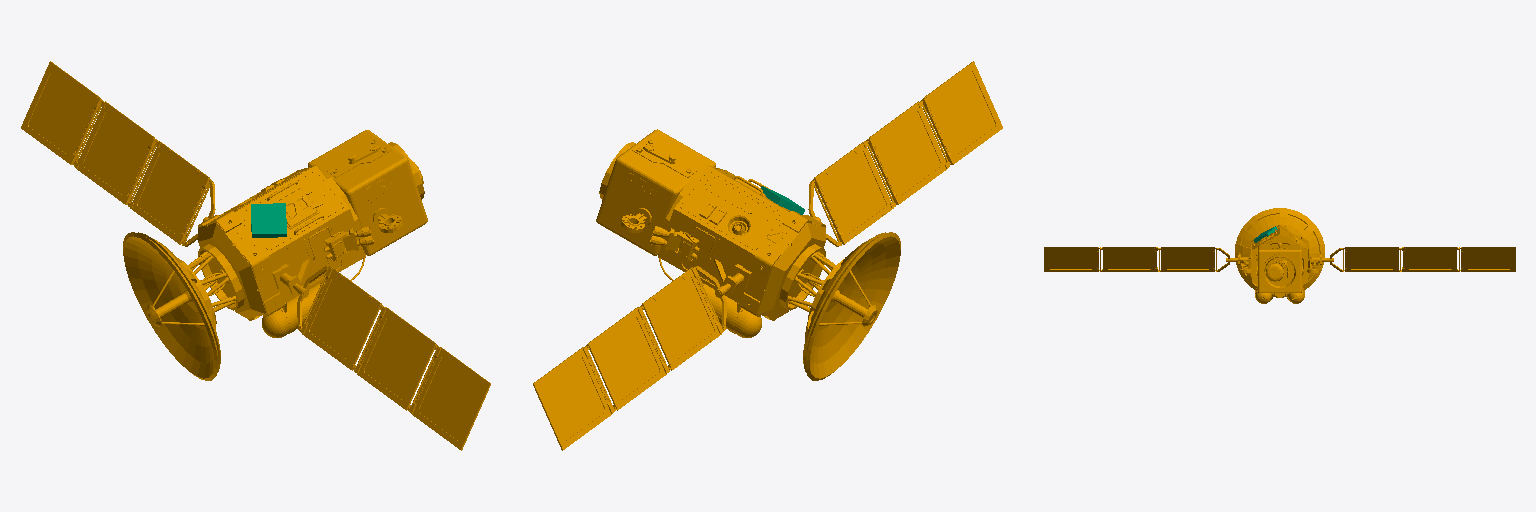
robot.urdf — sputnik:
<?xml version='1.0' encoding='utf-8'?>
<robot name="sputnik">
  <link name="base_link">
    <visual>
      <geometry>
        <mesh filename="satellite.stl" />
      </geometry>
    </visual>
    <collision>
      <geometry>
        <mesh filename="satellite.stl" />
      </geometry>
    </collision>
  </link>
  <link name="sputnik_mount" />
  <joint name="satellite_mount_fixed" type="fixed">
    <parent link="base_link" />
    <child link="sputnik_mount" />
    <origin xyz="-0.3409793727239791 -0.2415249735665143 1.3379246962589" rpy="2.220446049250313e-16 -0.6000516122871551 1.0874598085095768" />
  </joint>
  <link name="mount_support">
    <visual>
      <geometry>
        <mesh filename="mount_support.stl" />
      </geometry>
    </visual>
    <collision>
      <geometry>
        <mesh filename="mount_support.stl" />
      </geometry>
    </collision>
  </link>
  <joint name="support_fixed" type="fixed">
    <parent link="sputnik_mount" />
    <child link="mount_support" />
    <origin xyz="0 0 0" rpy="0 0 0" />
  </joint>
</robot>

--- Facts derived from the render (not from the file) ---
The picture shows the robot from 3 angles, left to right: view 1: azimuth 30°, elevation 25°; view 2: azimuth 150°, elevation 25°; view 3: azimuth 270°, elevation 25°; orthographic projection.
Robot: sputnik — 3 links, 2 joints (2 fixed); root link base_link; default pose: every joint at zero.
Links seen in each view (by area): view 1: base_link, mount_support; view 2: base_link; view 3: base_link.
Link boxes in pixels (<box>): base_link: <box>21,61,490,450</box>; mount_support: <box>251,203,286,237</box>; base_link: <box>533,61,1002,450</box>; base_link: <box>1044,208,1515,303</box>.
Bounding box of the posed robot: 2.8 × 8 × 1.86 m (x, y, z).
2 mesh visuals loaded from 2 distinct referenced files (2 binary STL).
